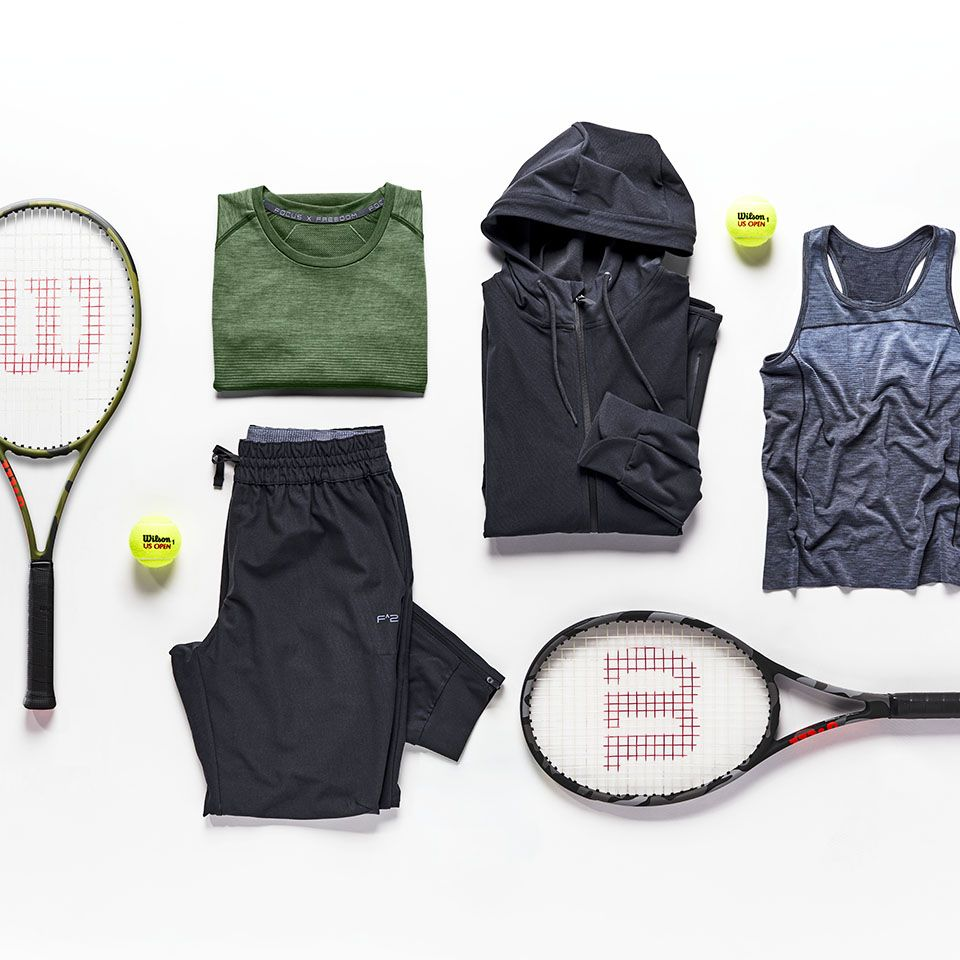tennis_ball: (717, 194, 787, 255), (127, 514, 187, 571)
